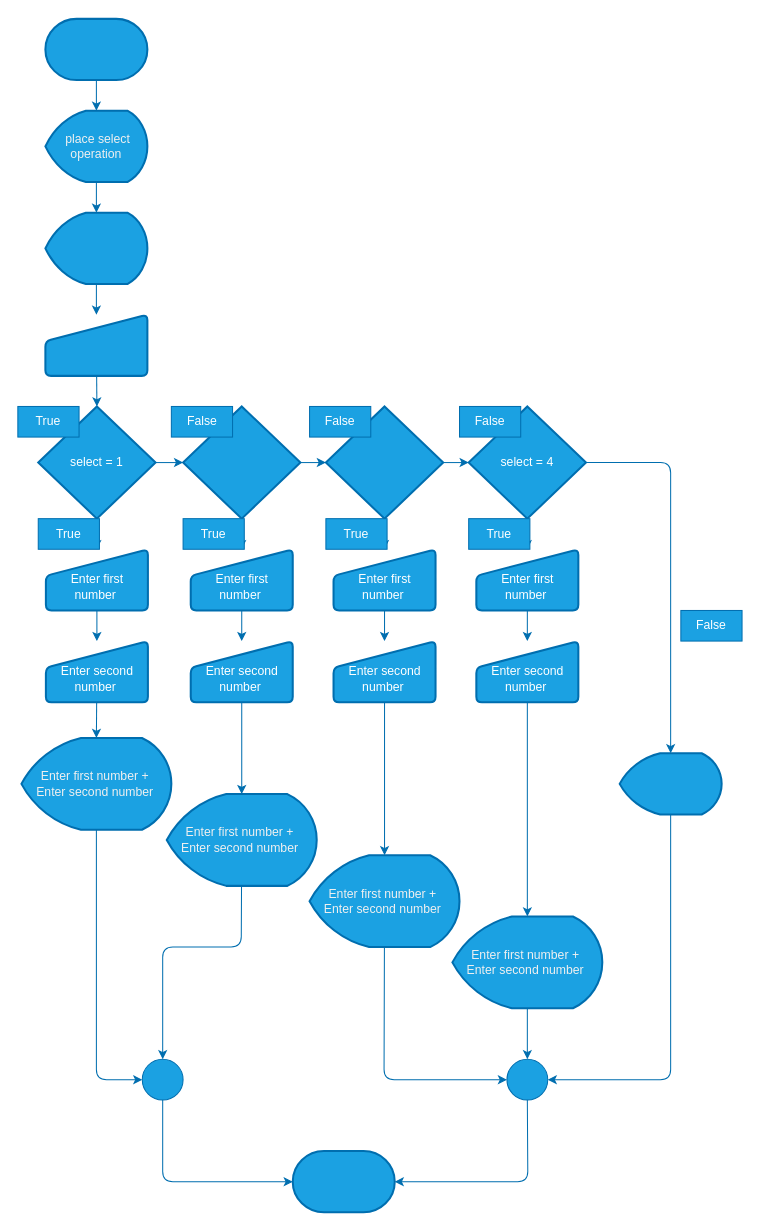
The diagram is 760 pixels wide and 1230 high, and some of its shapes have lost their labels. Here are the shapes that lost their labels. From the top down, the box of each, then its label:
(44, 17, 148, 81): Start
(44, 211, 148, 285): 1. Add 2. Subtract 3. Multiply 4. Divide
(44, 313, 148, 376): operation
(182, 405, 301, 519): select = 2
(324, 405, 444, 519): select = 3
(618, 752, 722, 815): operation error
(291, 1150, 395, 1213): End
